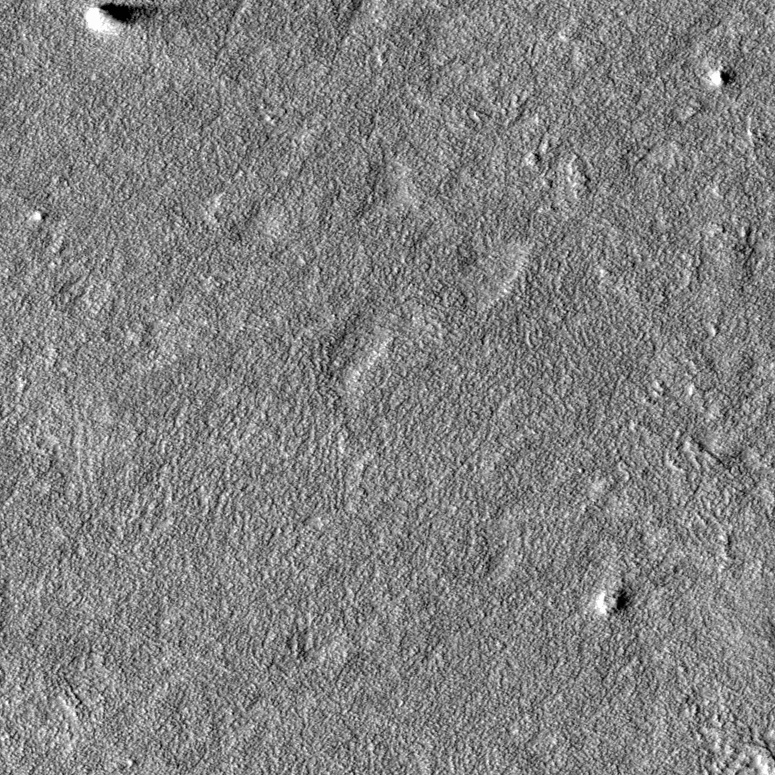dust_devil: (82, 1, 165, 37)
